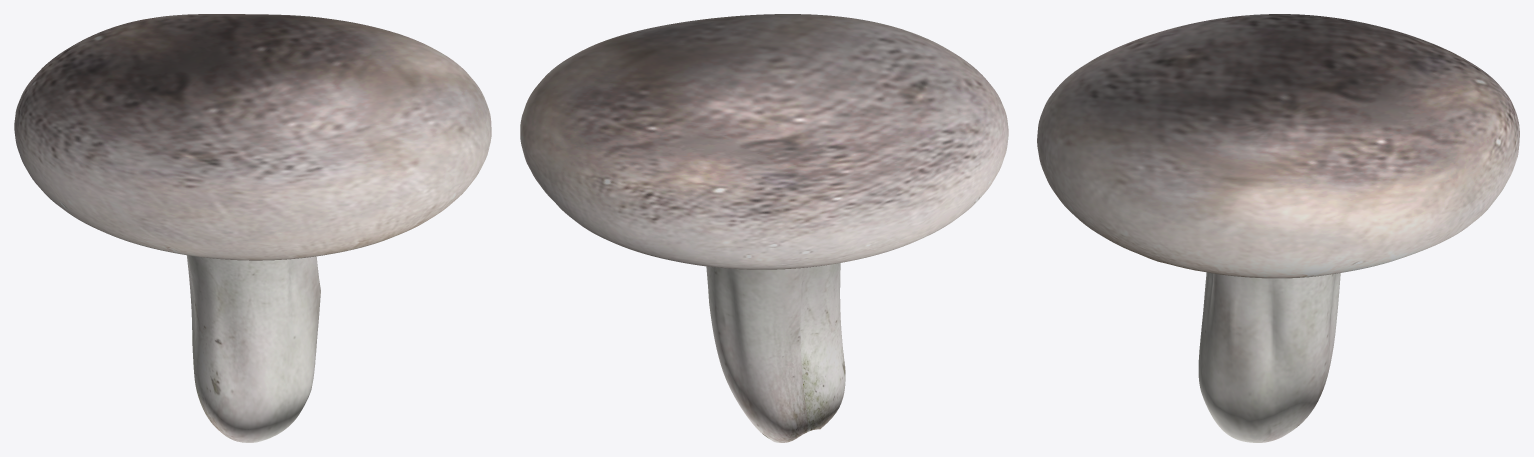
The model's file is SENE_21.fbx.
3 views of the same model, side by side, from view 1: azimuth 30°, elevation 25°; view 2: azimuth 150°, elevation 25°; view 3: azimuth 270°, elevation 25° (orthographic). The views are drawn at different scales.
Parts seen in each view (by area): view 1: SENE_21; view 2: SENE_21; view 3: SENE_21.
Boxes of the visible parts, x1=… form: SENE_21: x1=14, y1=14, x2=491, y2=442; SENE_21: x1=520, y1=14, x2=1008, y2=442; SENE_21: x1=1037, y1=14, x2=1519, y2=442.
Bounding box in the file's own units: 77.67 × 59.87 × 77.03.
1 material, 1 textured.
